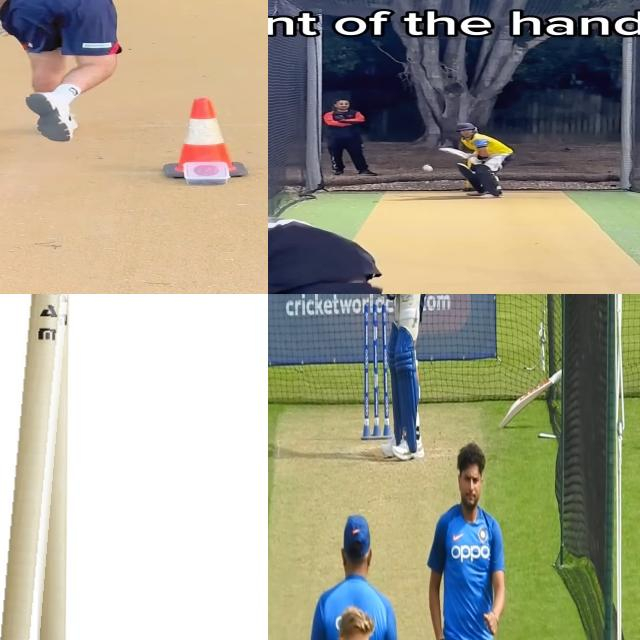Cricket ball: (422, 164, 434, 171)
Stumps: (0, 294, 76, 640), (361, 302, 393, 442)
